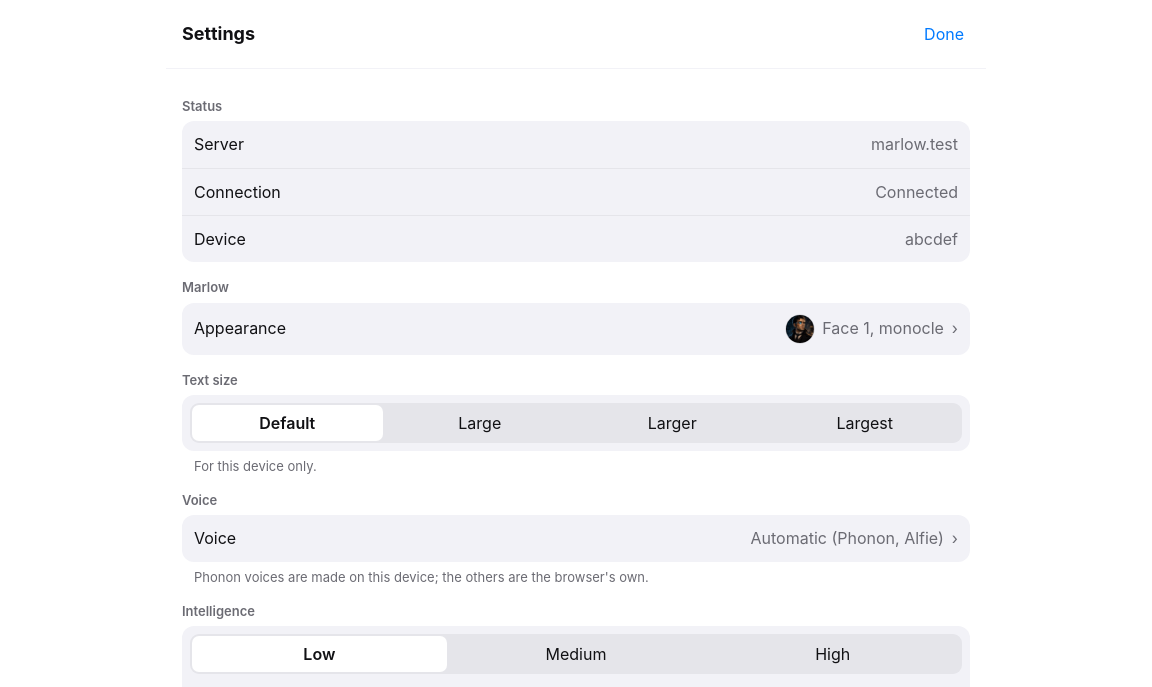
Test: Settings › Voice › Phonon › is what Automatic means where it can run, Alfie, with no preview and no download from Settings
This screenshot has width=1152, height=687.
Click the button "Voice Automatic (Phonon, Alfie)" at (215, 538), box left=182, top=515, right=970, bottom=562
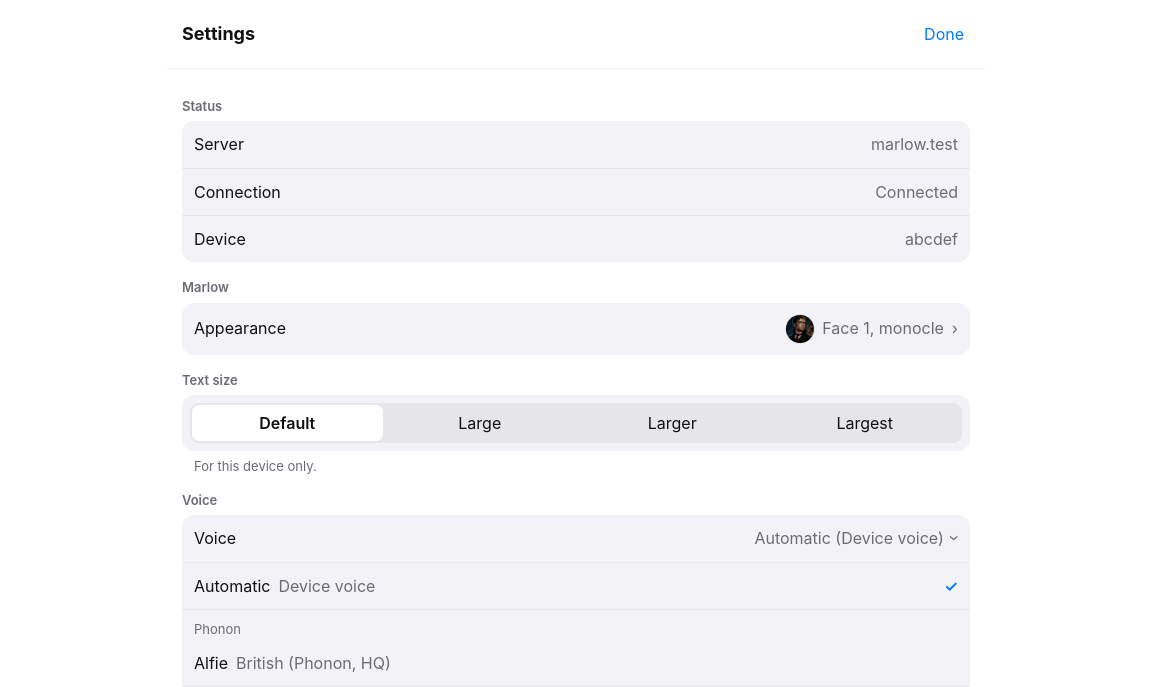
Result: the radio button labelled "Automatic Device voice" is shown
Click the radio button labelled "Automatic Device voice" at (232, 586), box left=182, top=562, right=970, bottom=609
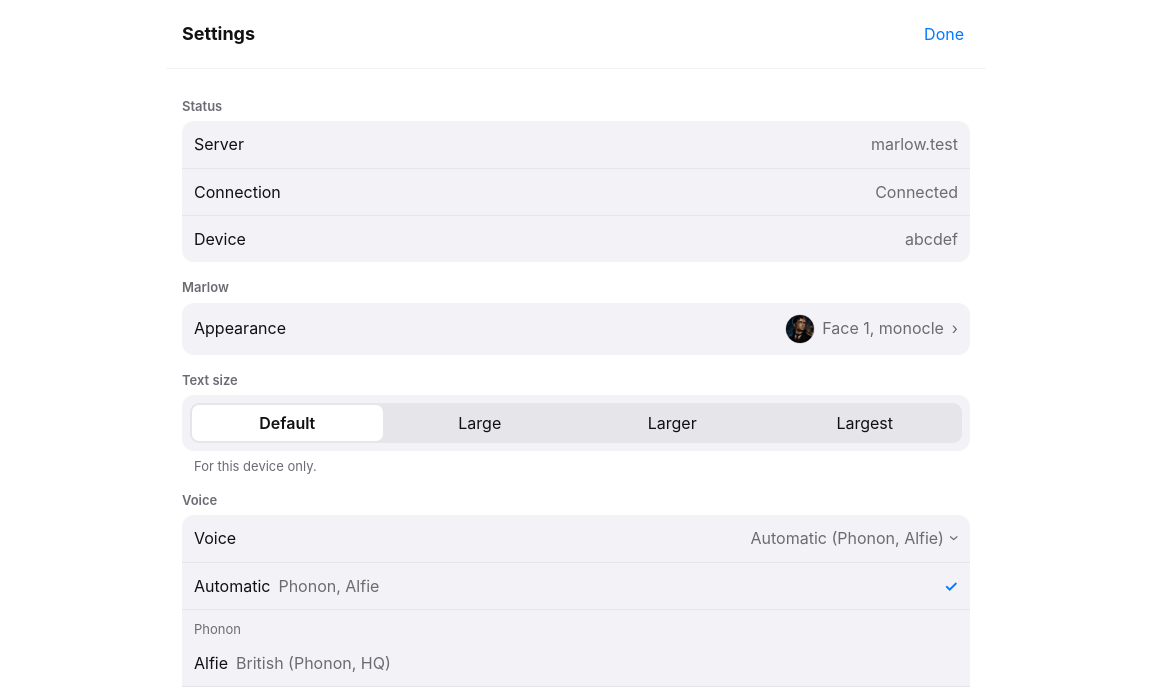
Result: the radio button labelled "Automatic Phonon, Alfie" is shown at left=182, top=562, right=970, bottom=609
